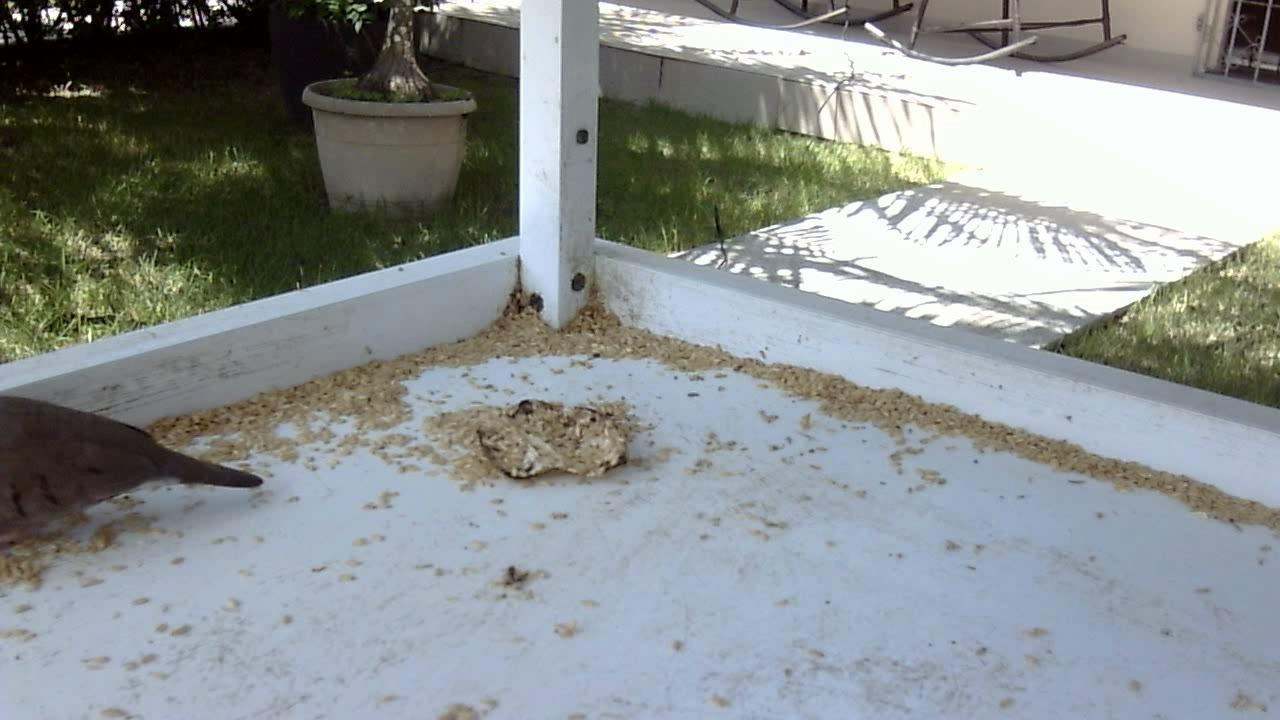rolinha: (1, 385, 267, 556)
